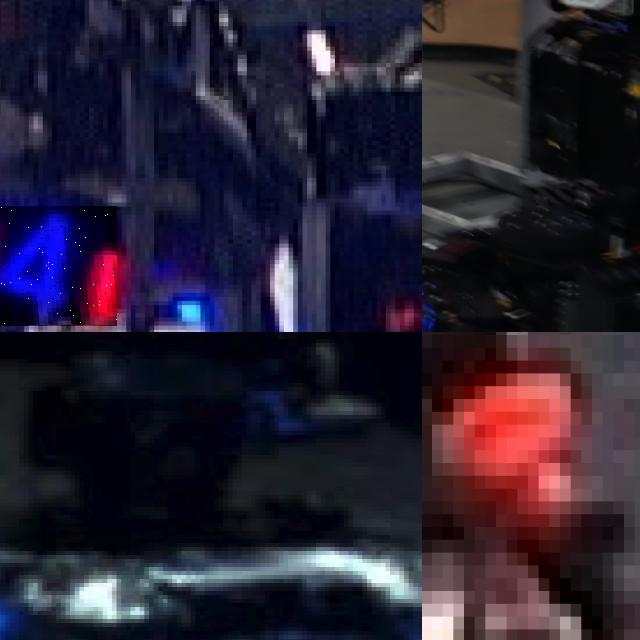R3: (528, 578, 624, 640)
R4: (0, 206, 117, 325)
